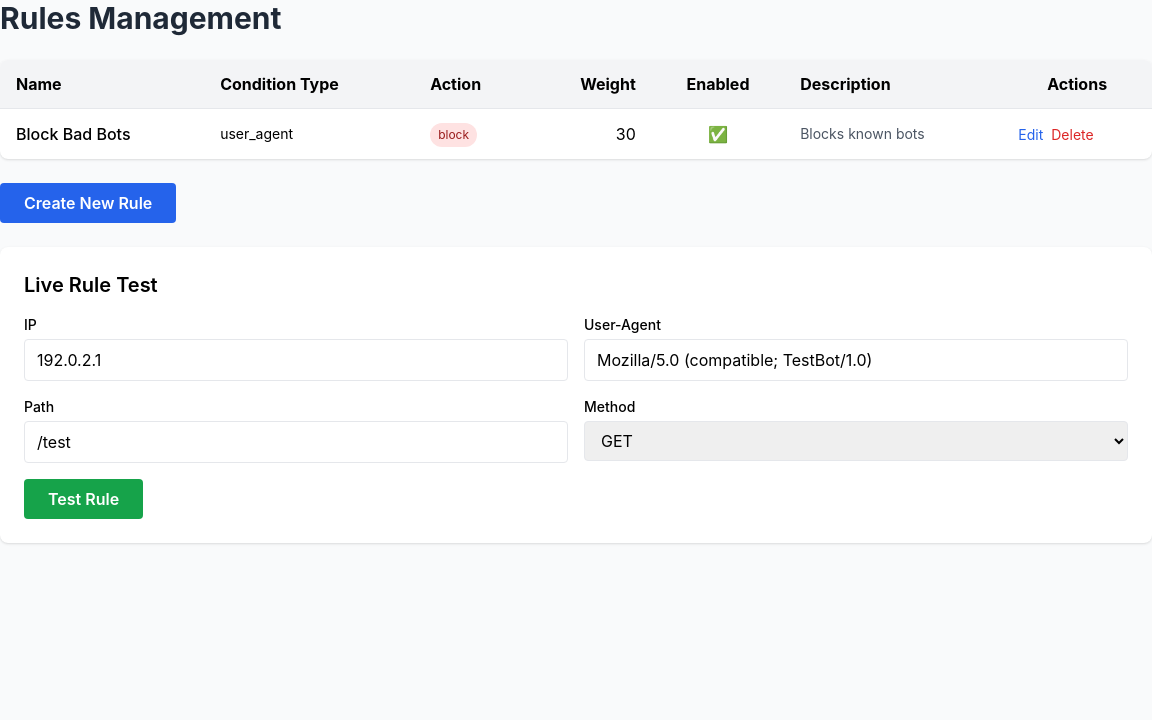
it: RulesManagement Component › opens create form modal when clicking create button
Click the button "Create New Rule" at coordinates (88, 203), box [0, 183, 176, 223]
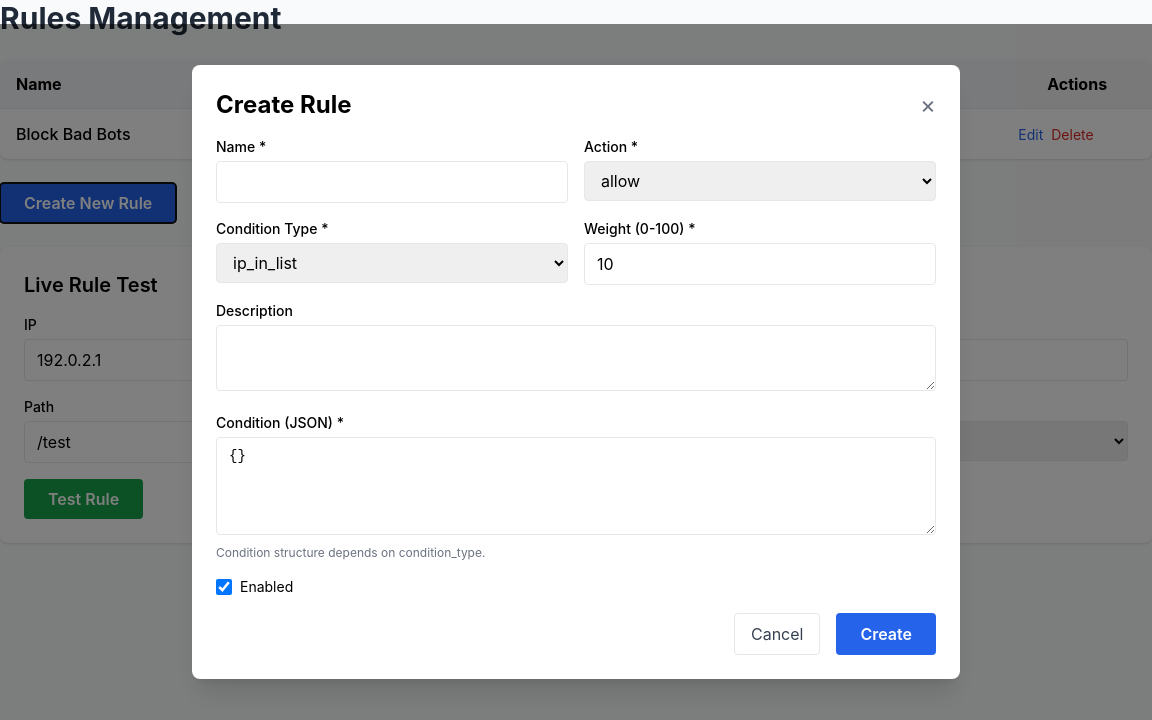
Expected: the heading "Create Rule" is shown, [216, 89, 352, 121]
